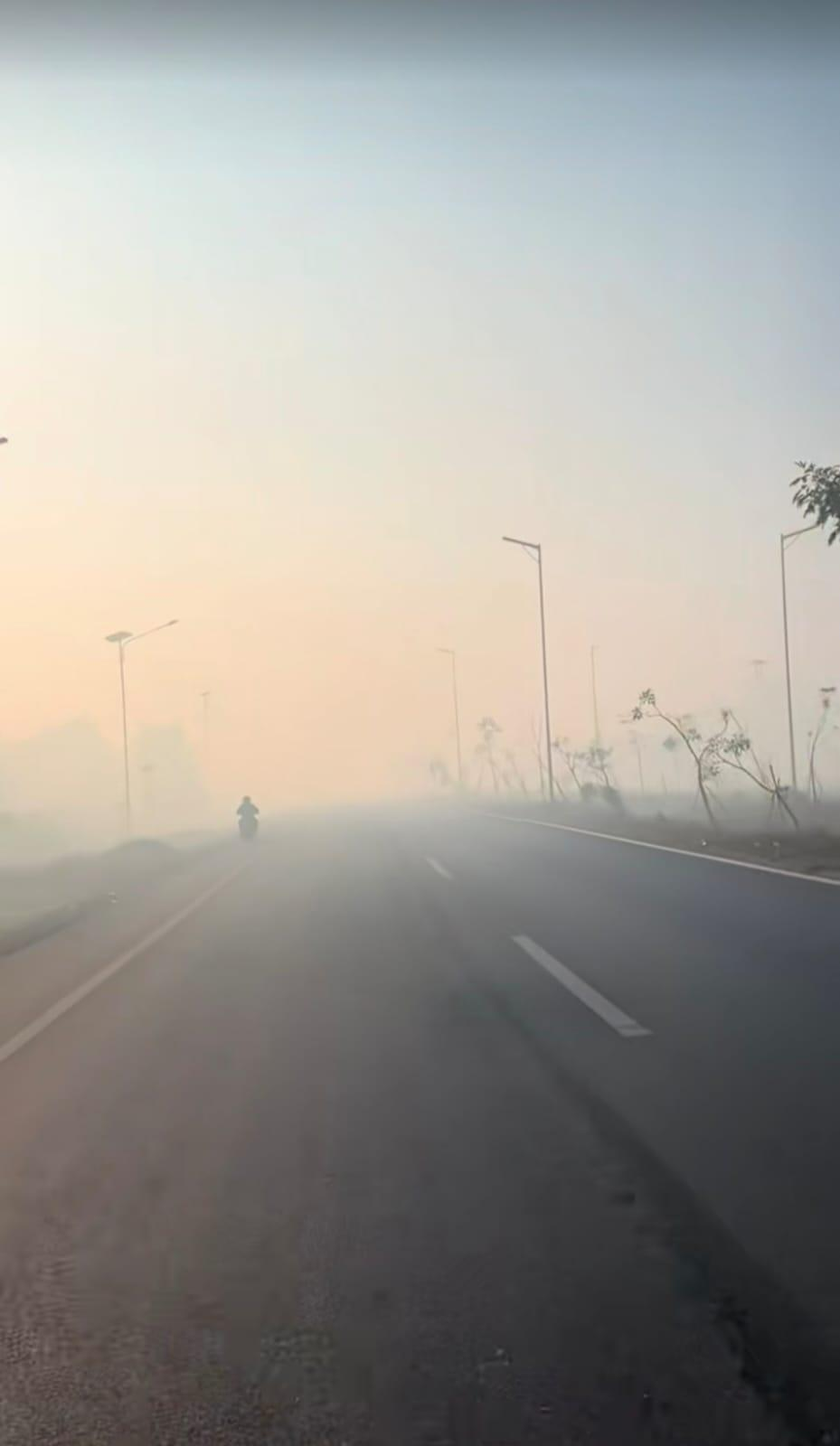Deteksi-Objek-Citra-Berasap: (0, 319, 840, 959)
Kendaraan: (238, 814, 259, 844)
Manusia: (236, 795, 260, 829)
Vegetasi: (623, 685, 797, 836), (468, 715, 624, 809), (788, 459, 840, 549)
